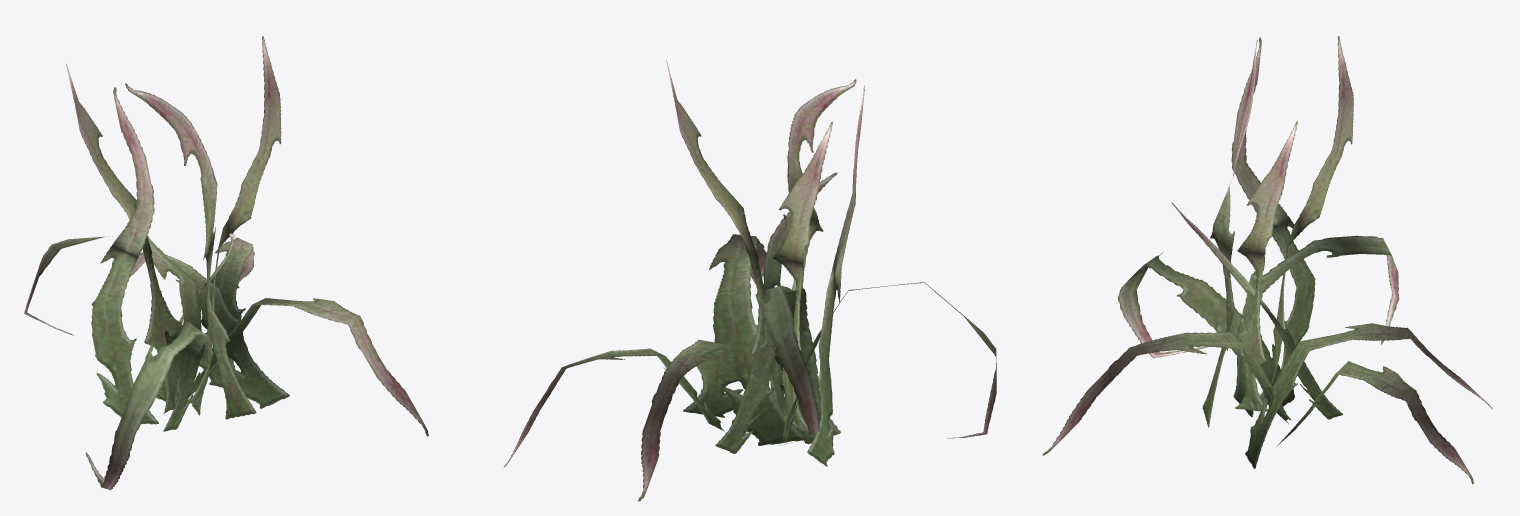
Rendered from core_leaf_razorgrass_mtns_l0.fbx.
3 renders of one model, left to right at view 1: azimuth 30°, elevation 25°; view 2: azimuth 150°, elevation 25°; view 3: azimuth 270°, elevation 25°, orthographic. The views are drawn at different scales.
Parts seen in each view (by area): view 1: mesh_node; view 2: mesh_node; view 3: mesh_node.
Boxes of the visible parts, x1,y1,x2,y2 form: mesh_node: (24,36,428,490); mesh_node: (503,60,996,501); mesh_node: (1042,36,1492,484).
Bounding box in the file's own units: 1.46 × 1.56 × 1.79.
